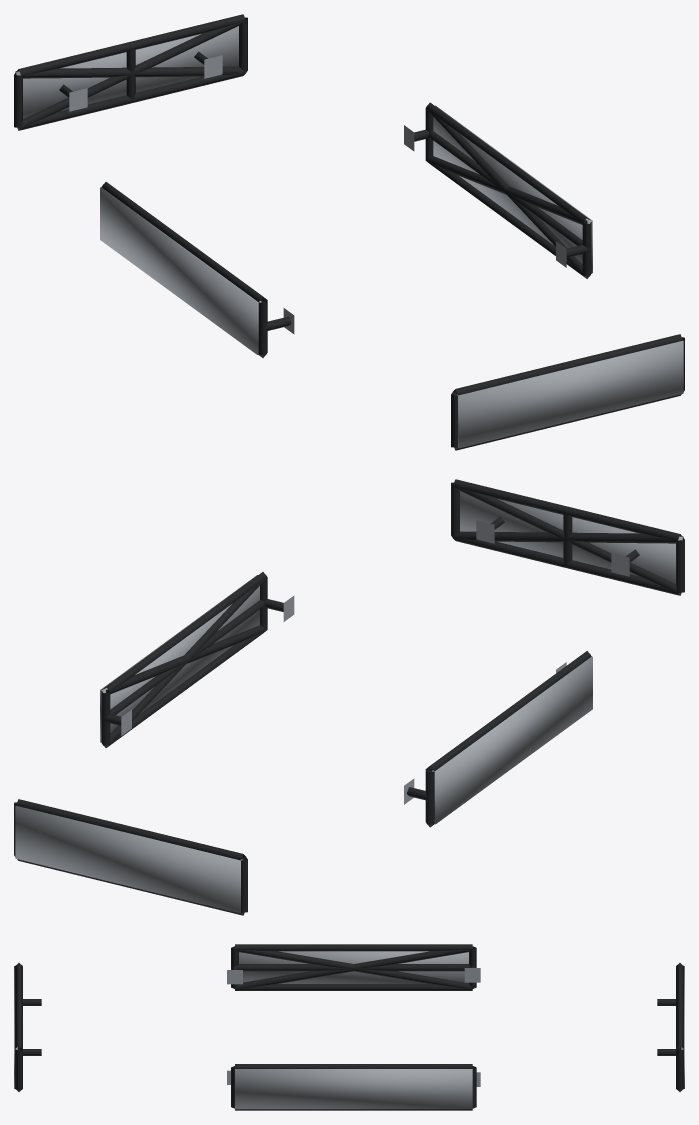
File: lindauer_esteio_protecao.glb
3 views of the same model, one above another, from view 1: azimuth 30°, elevation 25°; view 2: azimuth 150°, elevation 25°; view 3: azimuth 270°, elevation 25° (orthographic). The views are drawn at different scales.
Visible parts, largest first — view 1: Protection_front_Level3_Details, Protection_left_Level3_Details, Protection_rear_Level1_Details, Protection_rear_Level3_Details, Protection_right_Level1_Details, Protection_rear_Level2_Details, Protection_right_Level2_Details, Protection_right_Level3_Details, Protection_front_Level1_Details, Protection_left_Level1_Details; view 2: Protection_rear_Level3_Details, Protection_left_Level3_Details, Protection_front_Level1_Details, Protection_front_Level3_Details, Protection_right_Level1_Details, Protection_front_Level2_Details, Protection_right_Level2_Details, Protection_right_Level3_Details, Protection_rear_Level1_Details, Protection_left_Level1_Details; view 3: Protection_right_Level3_Details, Protection_left_Level2_Details, Protection_left_Level1_Details, Protection_left_Level3_Details, Protection_right_Level1_Details, Protection_rear_Level1_Details, Protection_front_Level1_Details.
Boxes of the visible parts, x1,y1,x2,y2 form: Protection_front_Level3_Details: (456, 340, 683, 448); Protection_left_Level3_Details: (100, 187, 261, 354); Protection_rear_Level1_Details: (14, 14, 247, 130); Protection_rear_Level3_Details: (15, 26, 238, 118); Protection_right_Level1_Details: (404, 102, 591, 278); Protection_rear_Level2_Details: (16, 21, 245, 129); Protection_right_Level2_Details: (426, 109, 590, 278); Protection_right_Level3_Details: (433, 105, 592, 273); Protection_front_Level1_Details: (451, 334, 684, 450); Protection_left_Level1_Details: (101, 182, 294, 357); Protection_rear_Level3_Details: (15, 805, 242, 913); Protection_left_Level3_Details: (431, 656, 592, 824); Protection_front_Level1_Details: (451, 479, 684, 595); Protection_front_Level3_Details: (460, 491, 683, 583); Protection_right_Level1_Details: (101, 572, 294, 747); Protection_front_Level2_Details: (453, 486, 682, 594); Protection_right_Level2_Details: (102, 578, 267, 747); Protection_right_Level3_Details: (100, 575, 259, 742); Protection_rear_Level1_Details: (14, 799, 247, 915); Protection_left_Level1_Details: (404, 651, 591, 827); Protection_right_Level3_Details: (235, 1069, 472, 1109); Protection_left_Level2_Details: (234, 947, 472, 988); Protection_left_Level1_Details: (227, 944, 480, 990); Protection_left_Level3_Details: (239, 951, 468, 983); Protection_right_Level1_Details: (227, 1064, 480, 1110); Protection_rear_Level1_Details: (657, 963, 683, 1091); Protection_front_Level1_Details: (15, 963, 41, 1091).
Size of the model in its own units: 2.01 by 0.354 by 4.6.
1 material, 1 textured.
